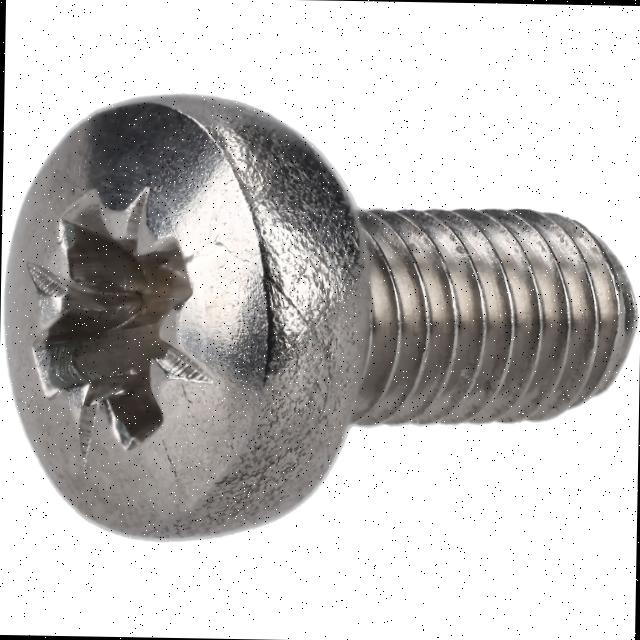Pozidriv: (2, 91, 284, 538)
